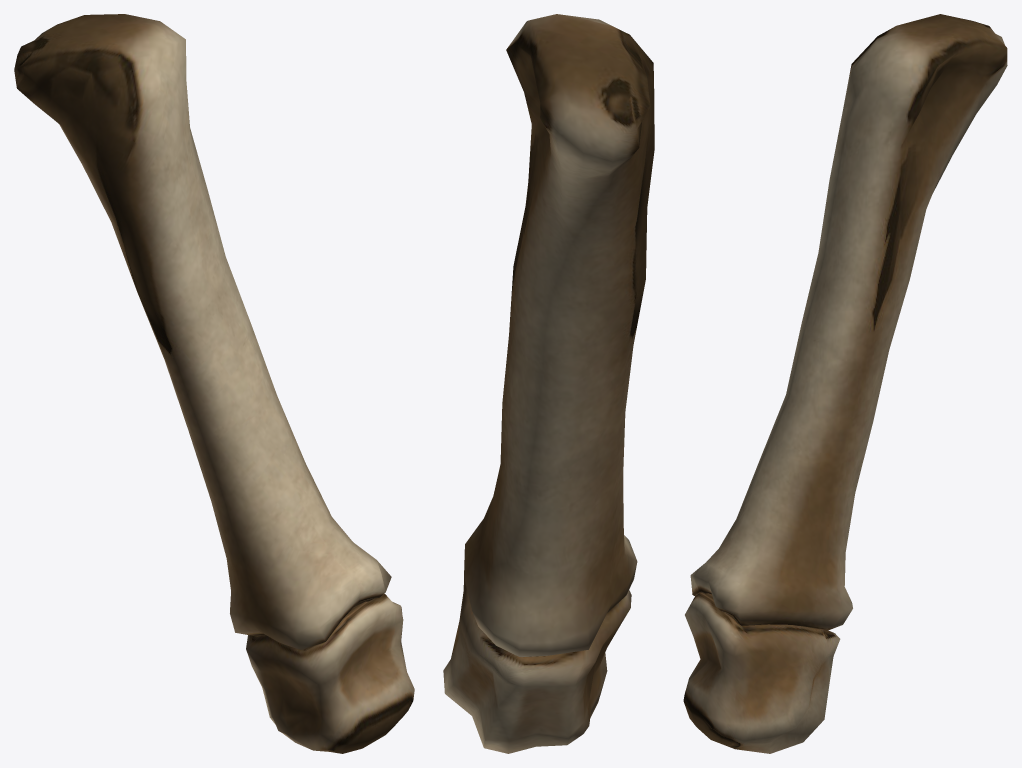
The model's file is Metacarpal_IV.glb.
The picture shows the model from 3 angles, left to right: view 1: azimuth 30°, elevation 25°; view 2: azimuth 150°, elevation 25°; view 3: azimuth 270°, elevation 25°; orthographic projection. The views are drawn at different scales.
Parts seen in each view (by area): view 1: Metacarpal_IV_Left1:Group20943; view 2: Metacarpal_IV_Left1:Group20943; view 3: Metacarpal_IV_Left1:Group20943.
Boxes of the visible parts, box(x1,y1,x2,y2) form: Metacarpal_IV_Left1:Group20943: box(14, 14, 414, 753); Metacarpal_IV_Left1:Group20943: box(443, 14, 654, 753); Metacarpal_IV_Left1:Group20943: box(683, 14, 1007, 753).
Bounding box in the file's own units: 21.36 × 52.06 × 23.24.
1 material, 1 textured.
